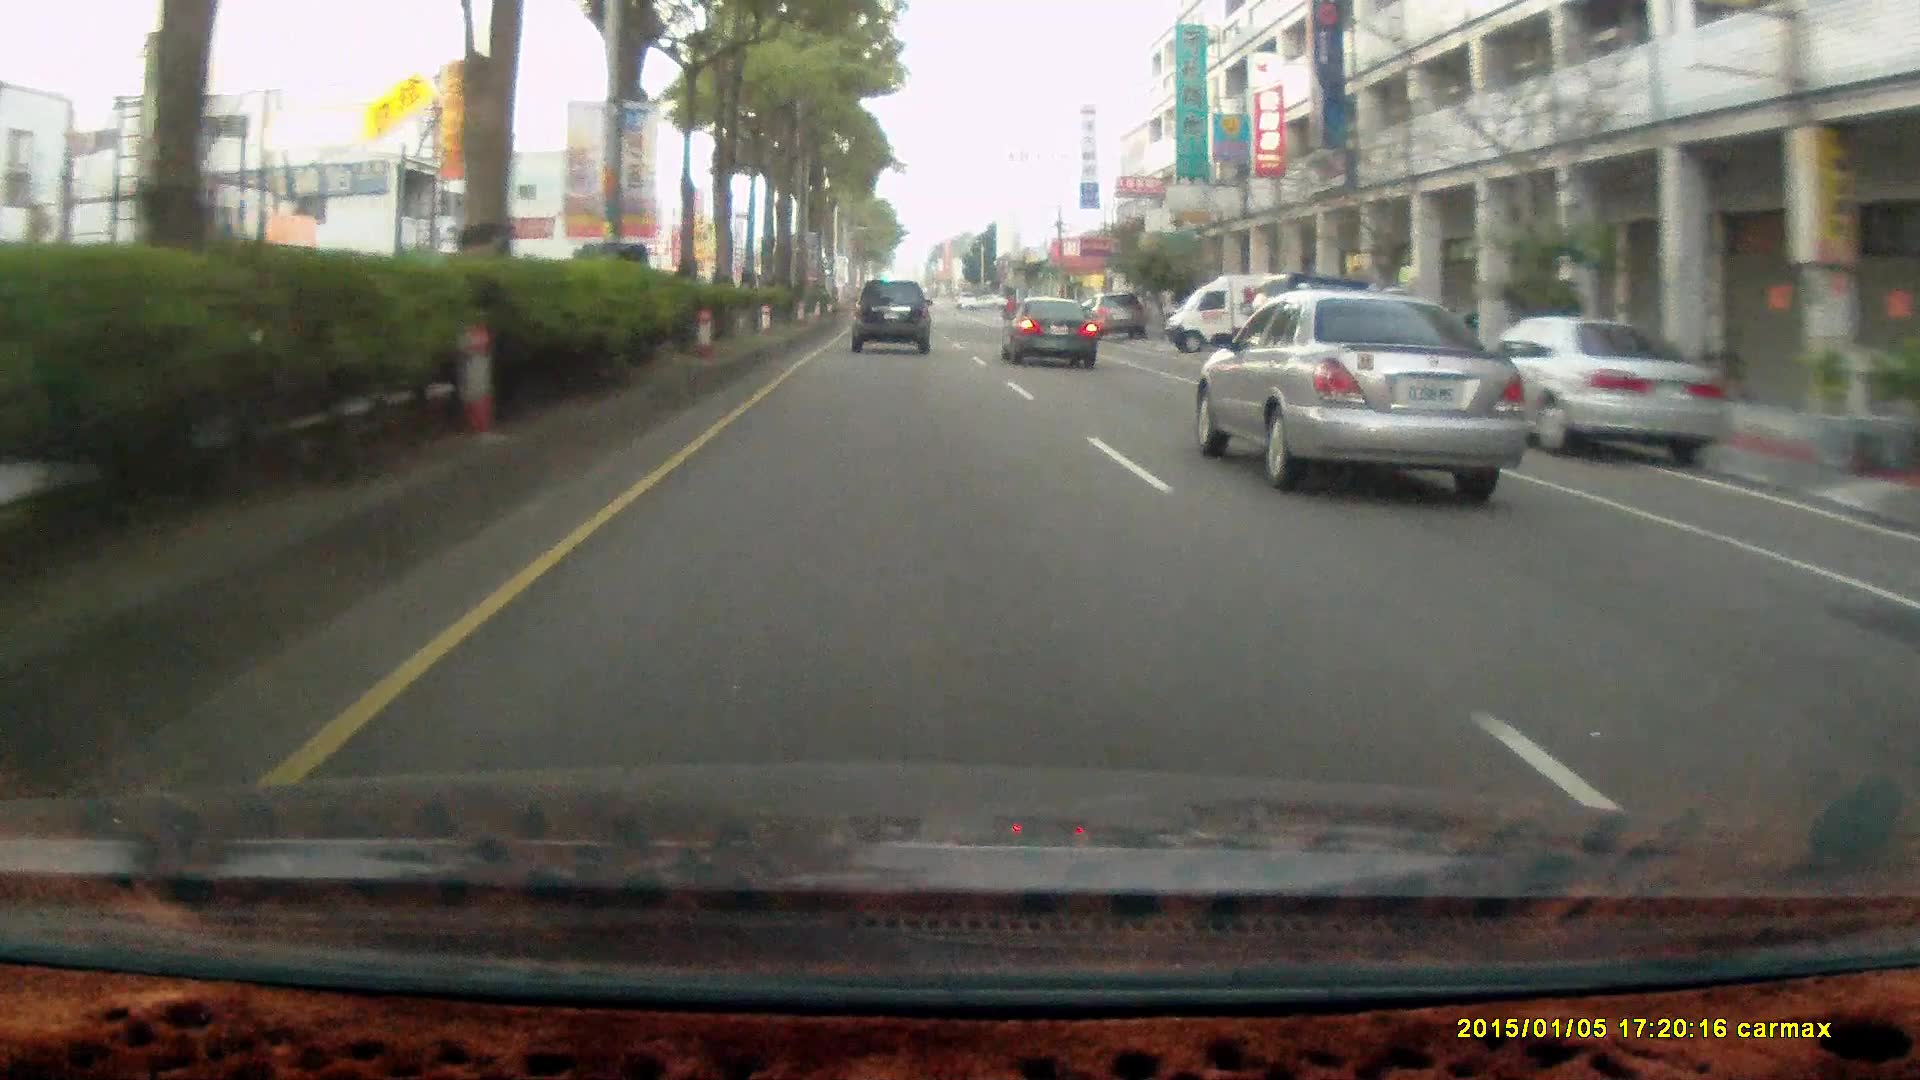vehicle: (1193, 287, 1524, 487), (1456, 313, 1730, 462), (1458, 314, 1724, 463), (1276, 272, 1443, 409), (1159, 270, 1321, 356), (1159, 269, 1320, 353), (998, 291, 1102, 368), (1001, 294, 1096, 368), (851, 277, 935, 355), (851, 272, 932, 347), (1077, 293, 1145, 342), (1077, 290, 1143, 338)
